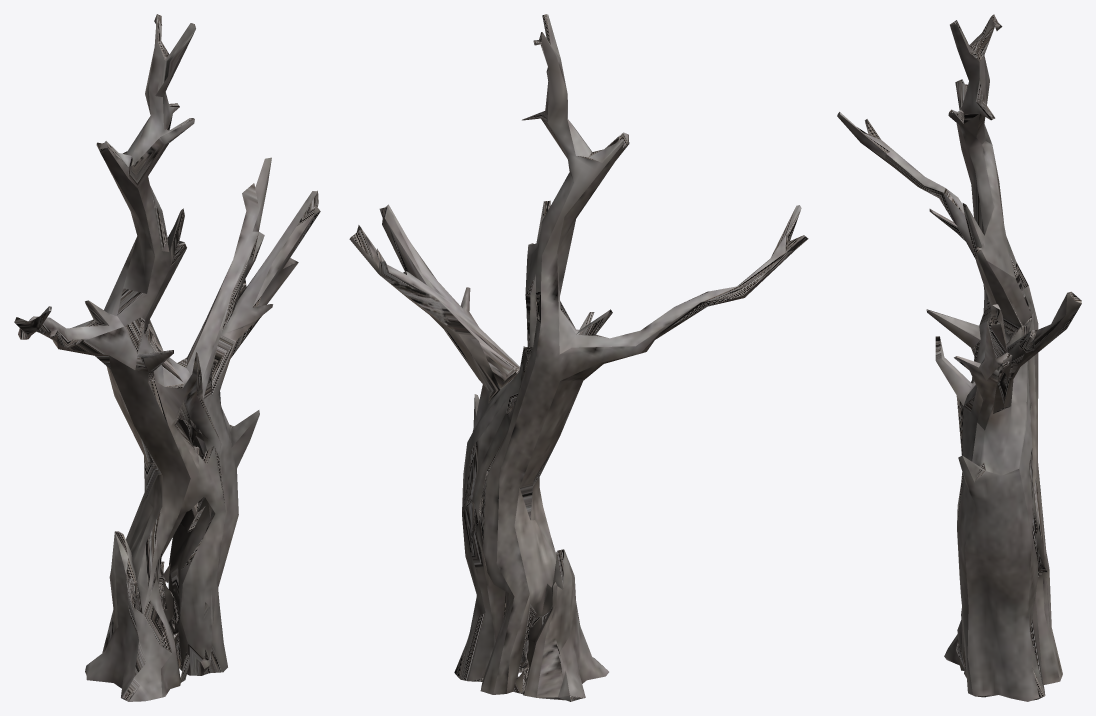
File: dead-desert-snag.glb
The picture shows the model from 3 angles, left to right: view 1: azimuth 30°, elevation 25°; view 2: azimuth 150°, elevation 25°; view 3: azimuth 270°, elevation 25°; orthographic projection. The views are drawn at different scales.
Visible parts, largest first — view 1: world; view 2: world; view 3: world.
Part boxes in pixels (x1=…): world: x1=14, y1=14, x2=320, y2=701; world: x1=349, y1=14, x2=808, y2=701; world: x1=837, y1=14, x2=1081, y2=701.
Bounding box in the file's own units: 0.5897 × 1 × 0.3395.
Materials: 1 (1 with a texture image).
